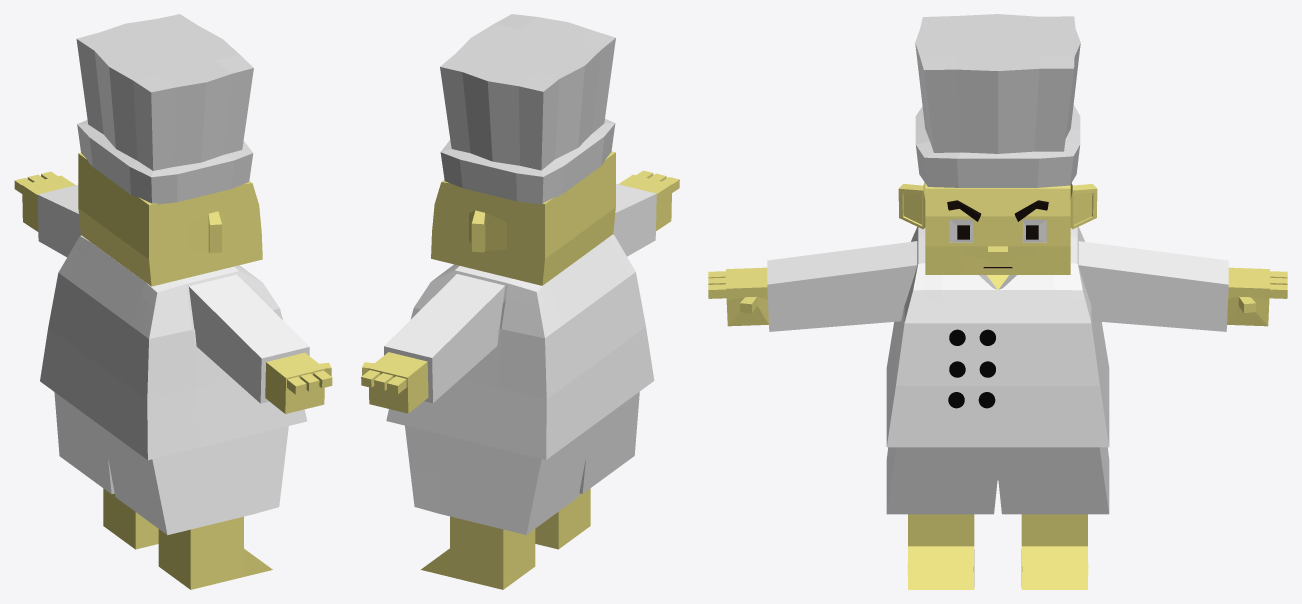
File: ChefMalolhos.fbx
3 renders of one model, left to right at view 1: azimuth 30°, elevation 25°; view 2: azimuth 150°, elevation 25°; view 3: azimuth 270°, elevation 25°, orthographic. The views are drawn at different scales.
Parts seen in each view (by area): view 1: Cube, Cube.002, Cube.001; view 2: Cube, Cube.002, Cube.001; view 3: Cube, Cube.002, Cube.001.
Part boxes in pixels (x1,y1,x2,y2): Cube: [14, 171, 332, 589]; Cube.002: [76, 14, 253, 204]; Cube.001: [78, 153, 262, 286]; Cube: [361, 170, 679, 589]; Cube.002: [440, 14, 615, 204]; Cube.001: [431, 151, 615, 285]; Cube: [708, 227, 1287, 589]; Cube.002: [915, 14, 1080, 187]; Cube.001: [898, 182, 1097, 274].
Size of the model in its own units: 118 by 355 by 362.
